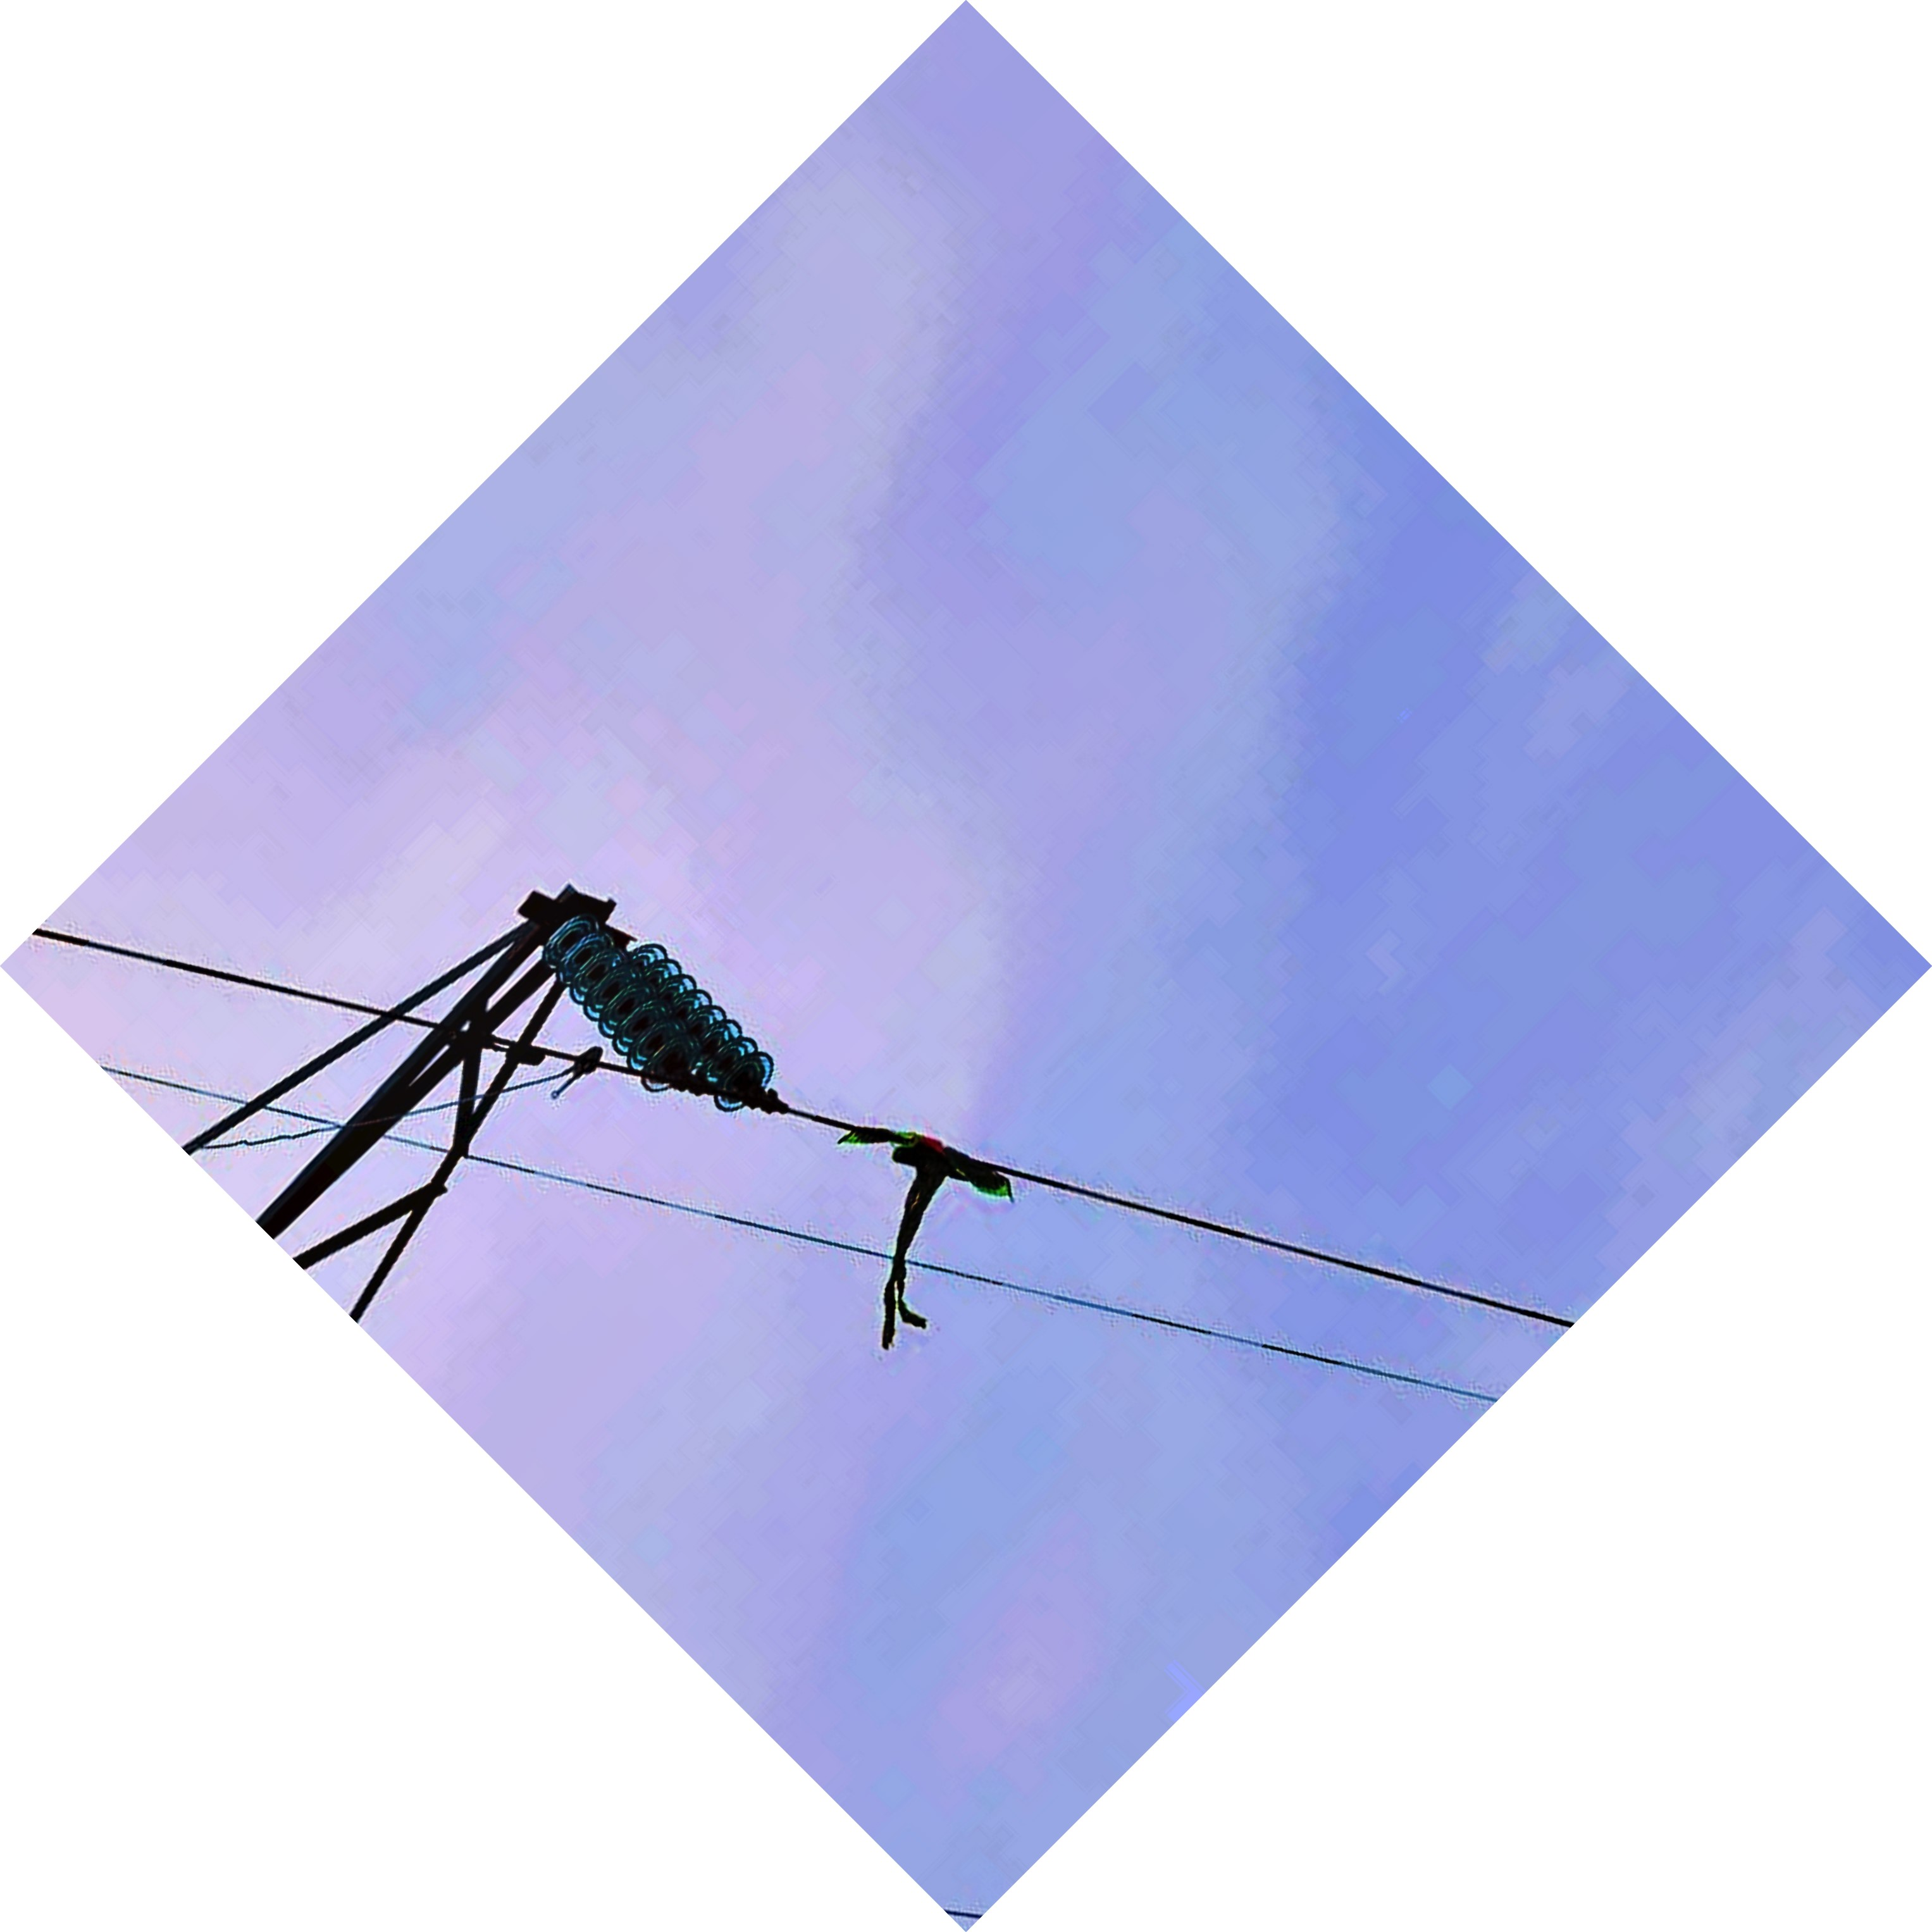wire foreign body: (819, 1088, 1028, 1378)
